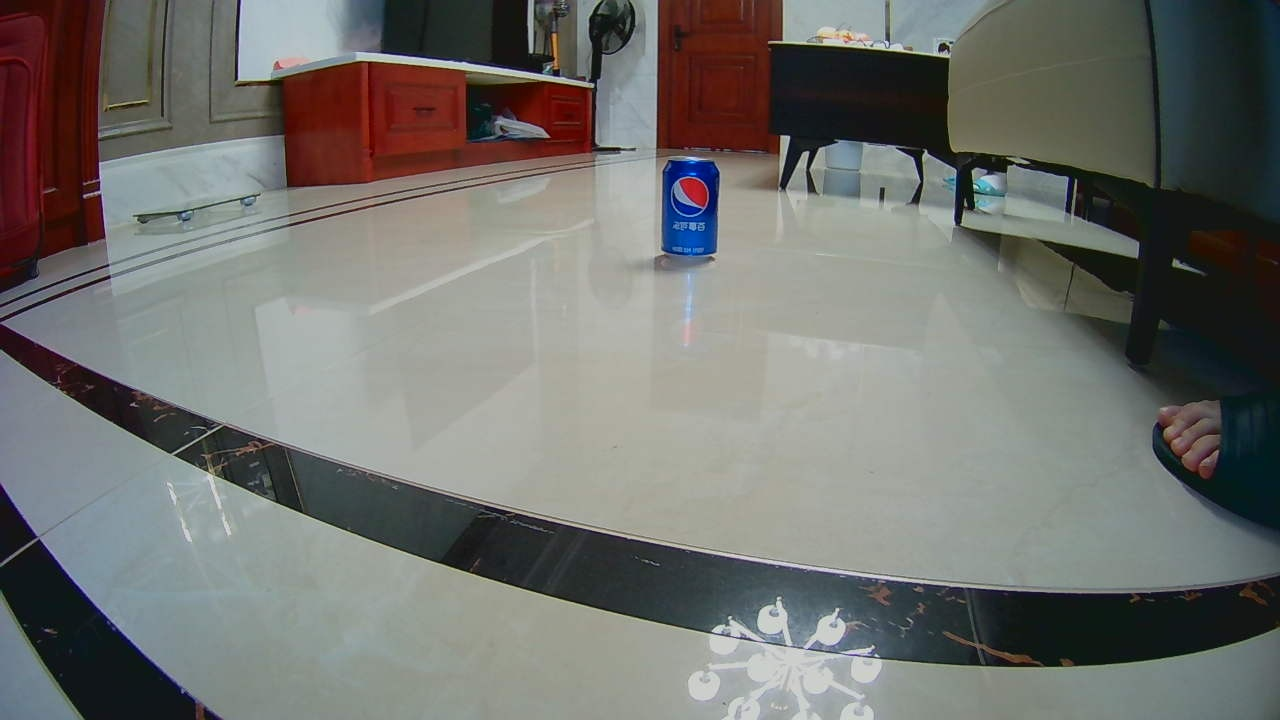pessi: (664, 156, 718, 258)
